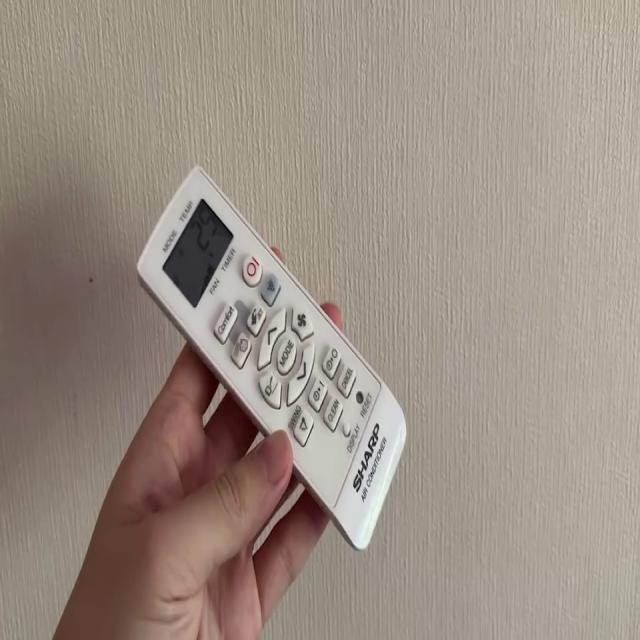remote: (138, 166, 404, 551)
